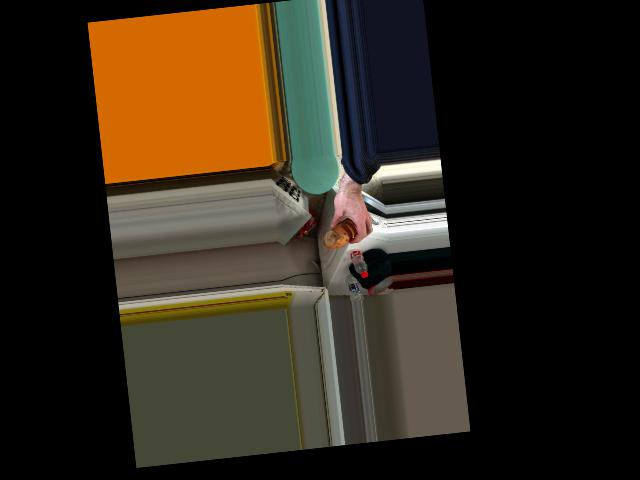sweet_potato: (327, 217, 360, 250)
